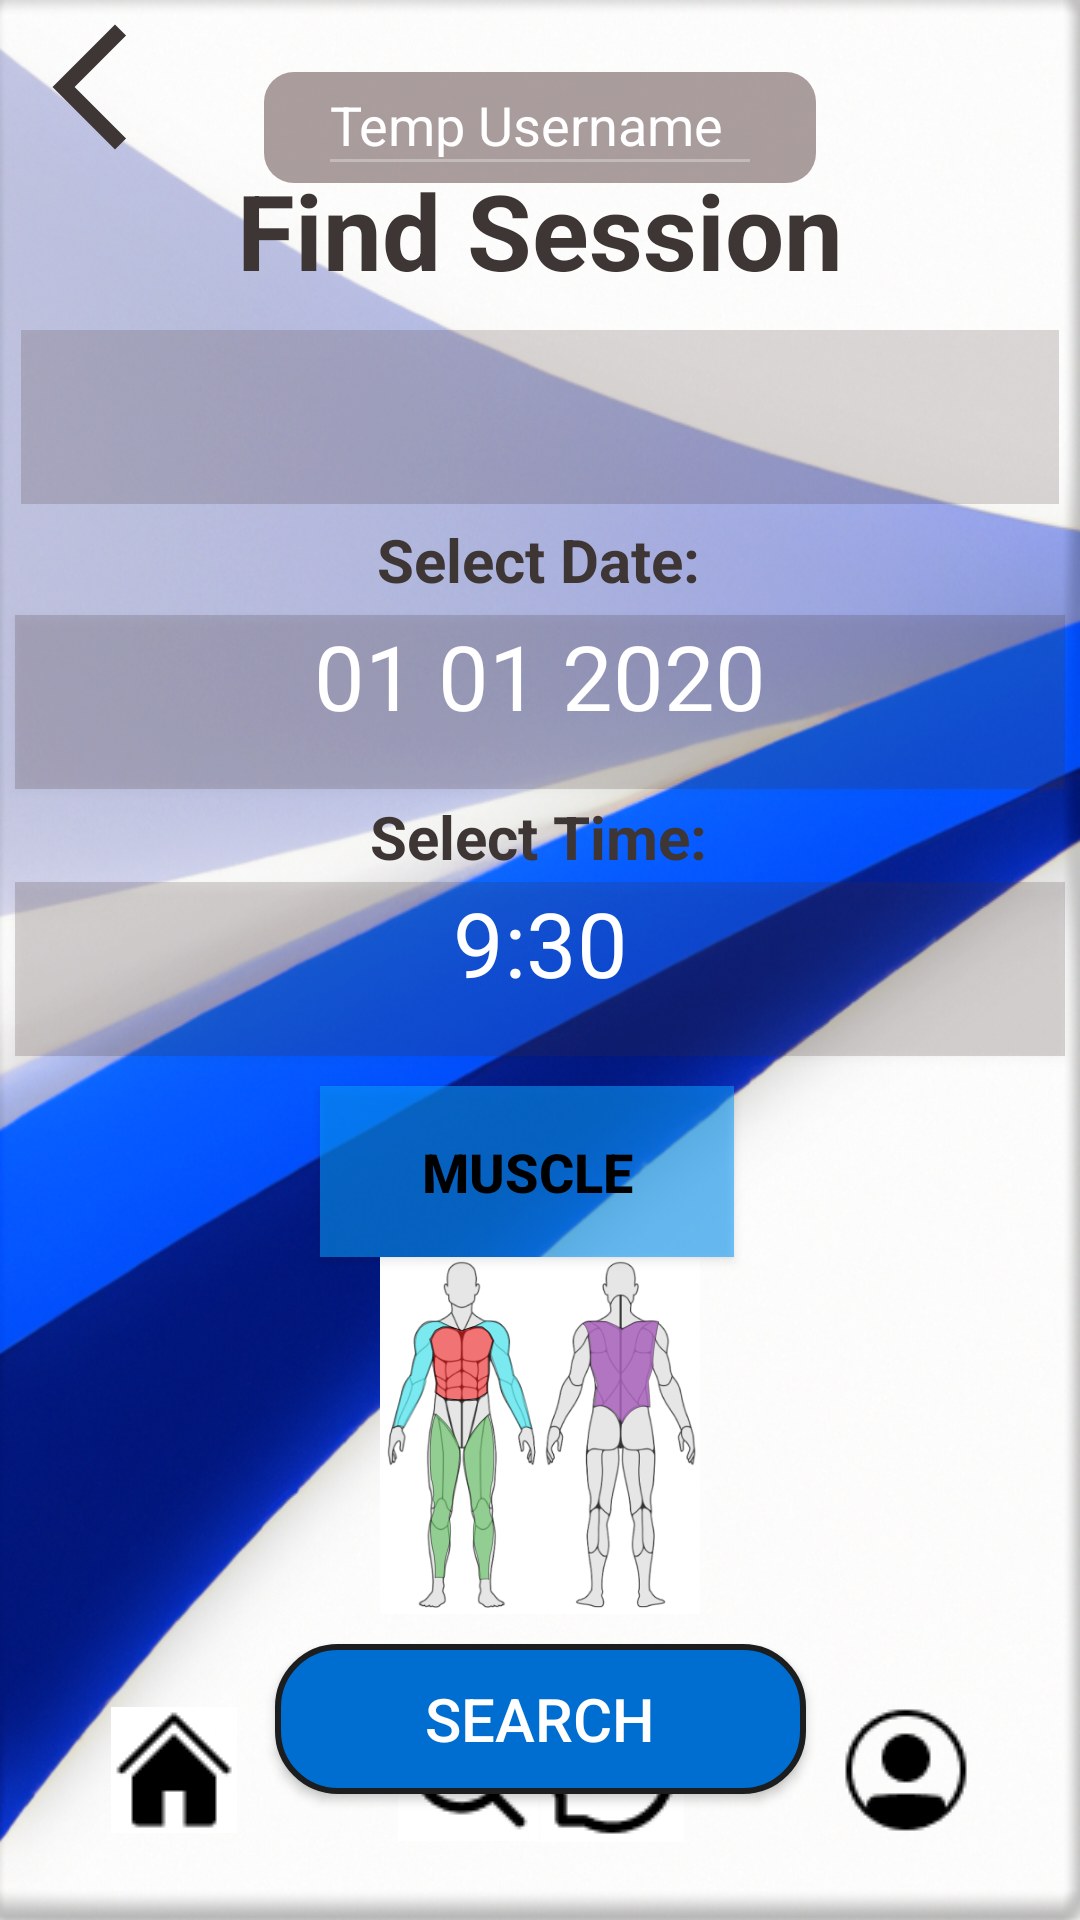

Icon click points for this 1080 x 1920 phone screenshot, format (x=x, y=y):
arrow back: (x=90, y=87)
